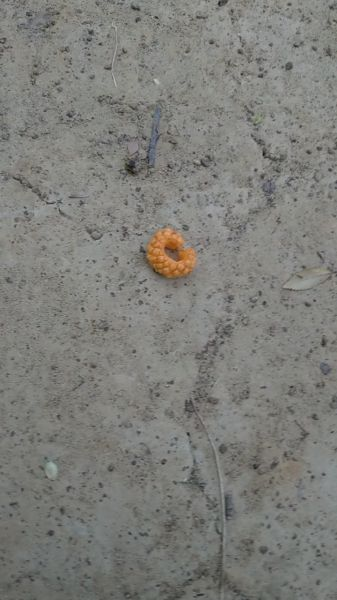eggs: (141, 221, 199, 284)
